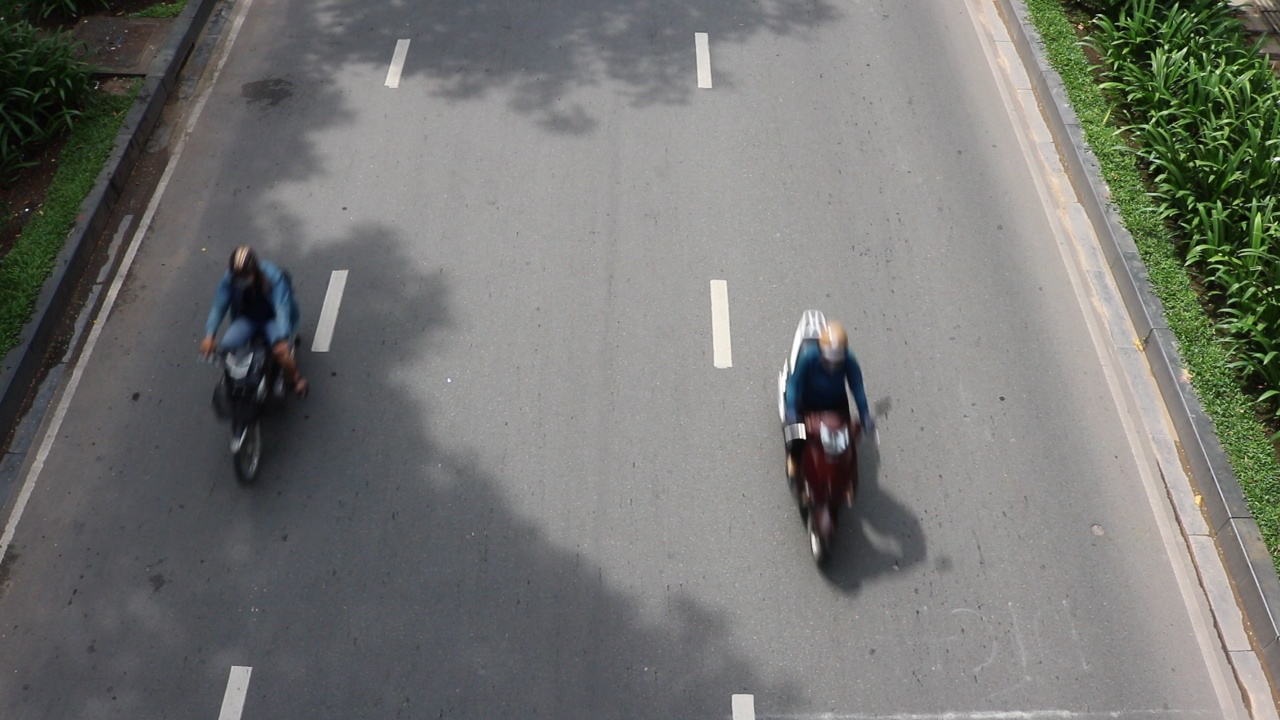motorcycle: (203, 335, 293, 494), (783, 401, 867, 567)
